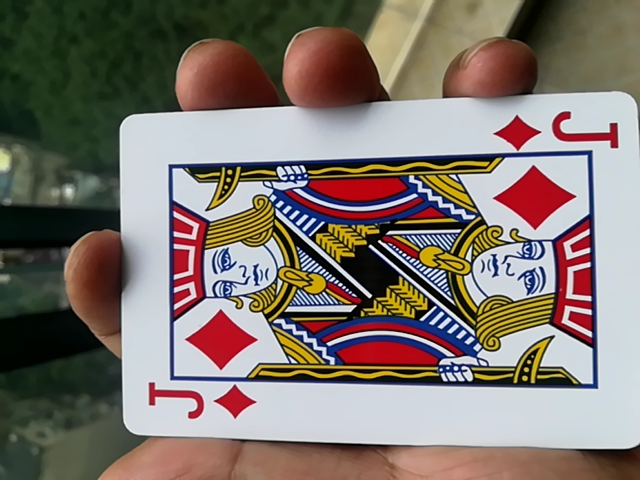fk j: (105, 109, 637, 456)
